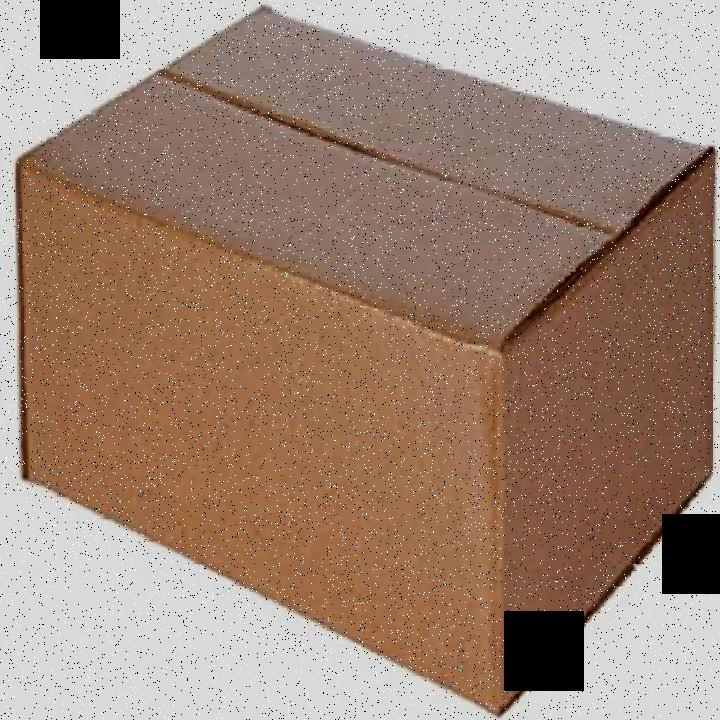box: (13, 7, 717, 718)
